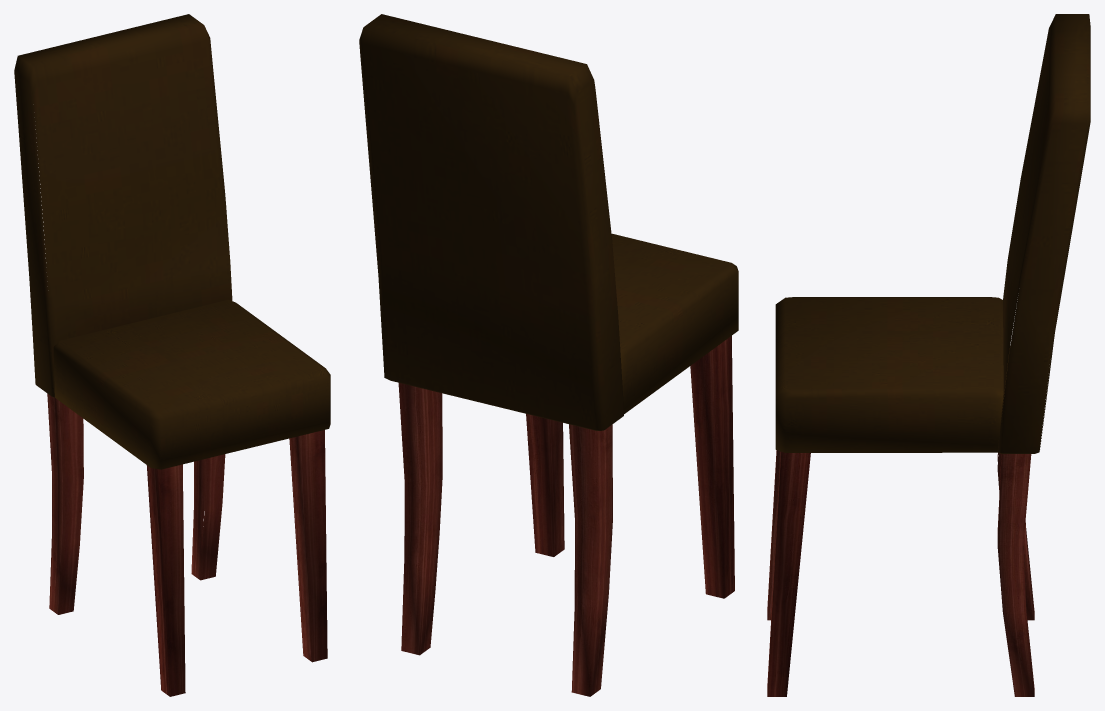
3 renders of one model, left to right at view 1: azimuth 30°, elevation 25°; view 2: azimuth 150°, elevation 25°; view 3: azimuth 270°, elevation 25°, orthographic. The views are drawn at different scales.
Bounding box in the file's own units: 670 × 1862 × 919.
1 material, 1 textured.
